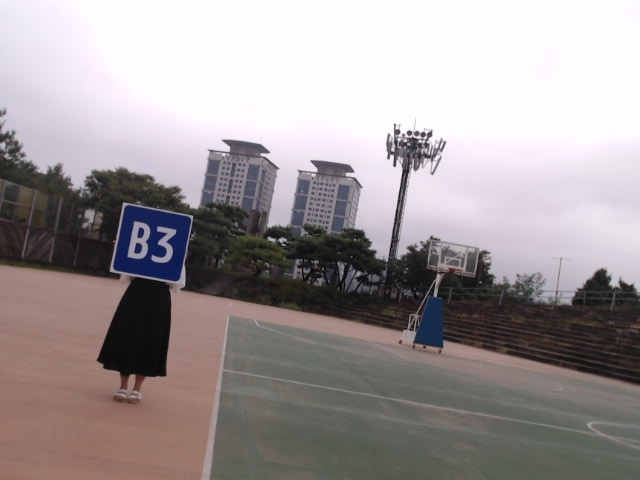delivery_b3: (113, 202, 192, 281)
